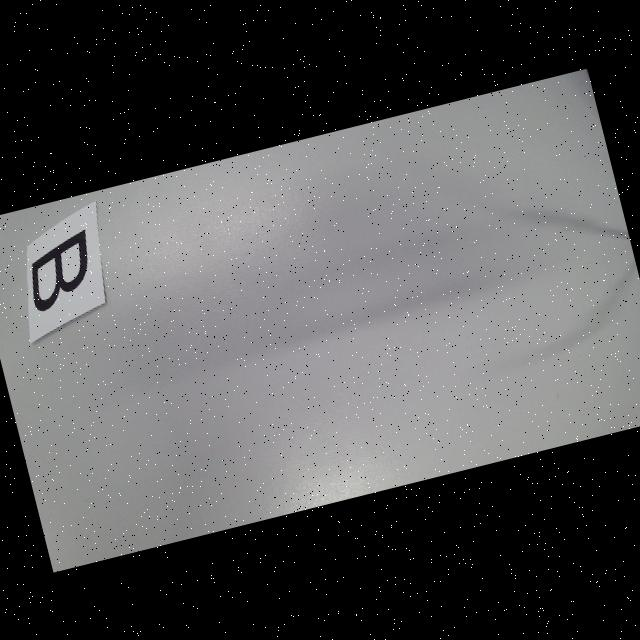FAKE: (20, 229, 101, 312)
